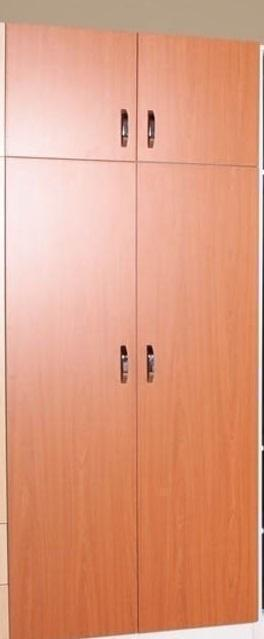Armario: (0, 12, 258, 625)
